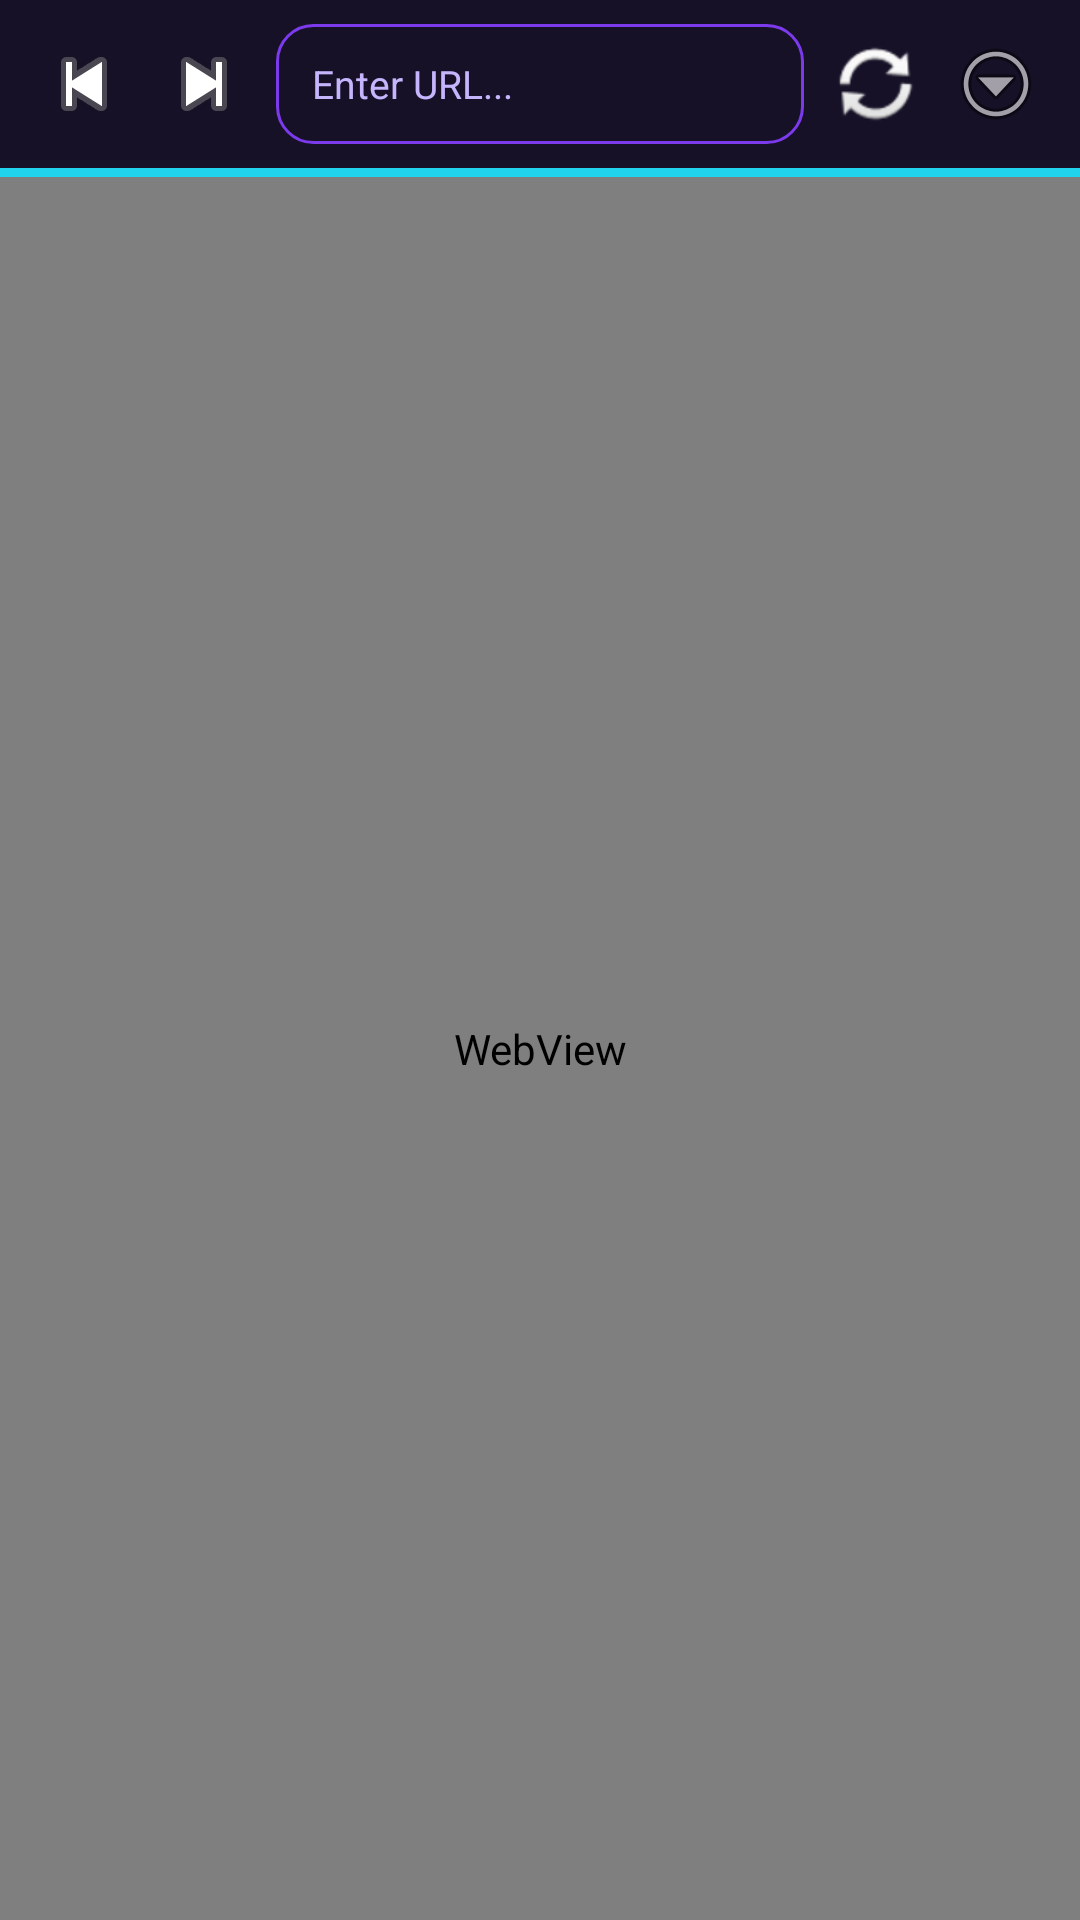

Where to tap for icons on this 1080x1920 app screen, as point (x, y):
Back: point (84, 84)
Forward: point (204, 84)
Menu: point (996, 84)
Reload: point (875, 84)
